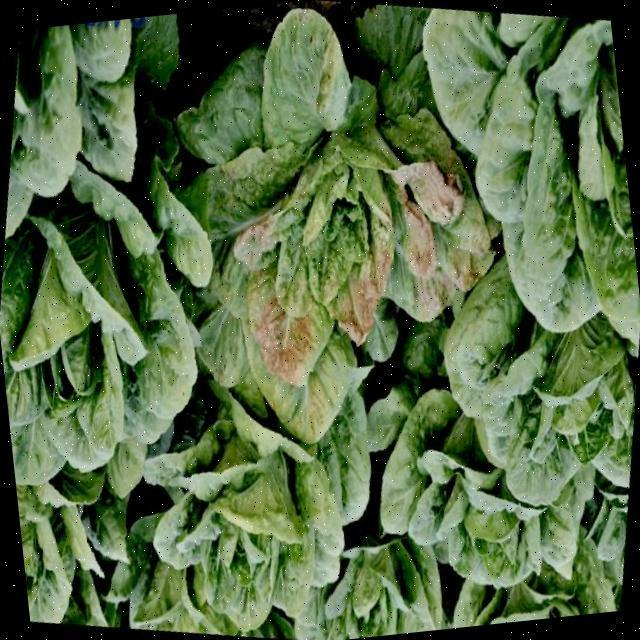Lettuce Mosaic Virus: (123, 0, 546, 486)
